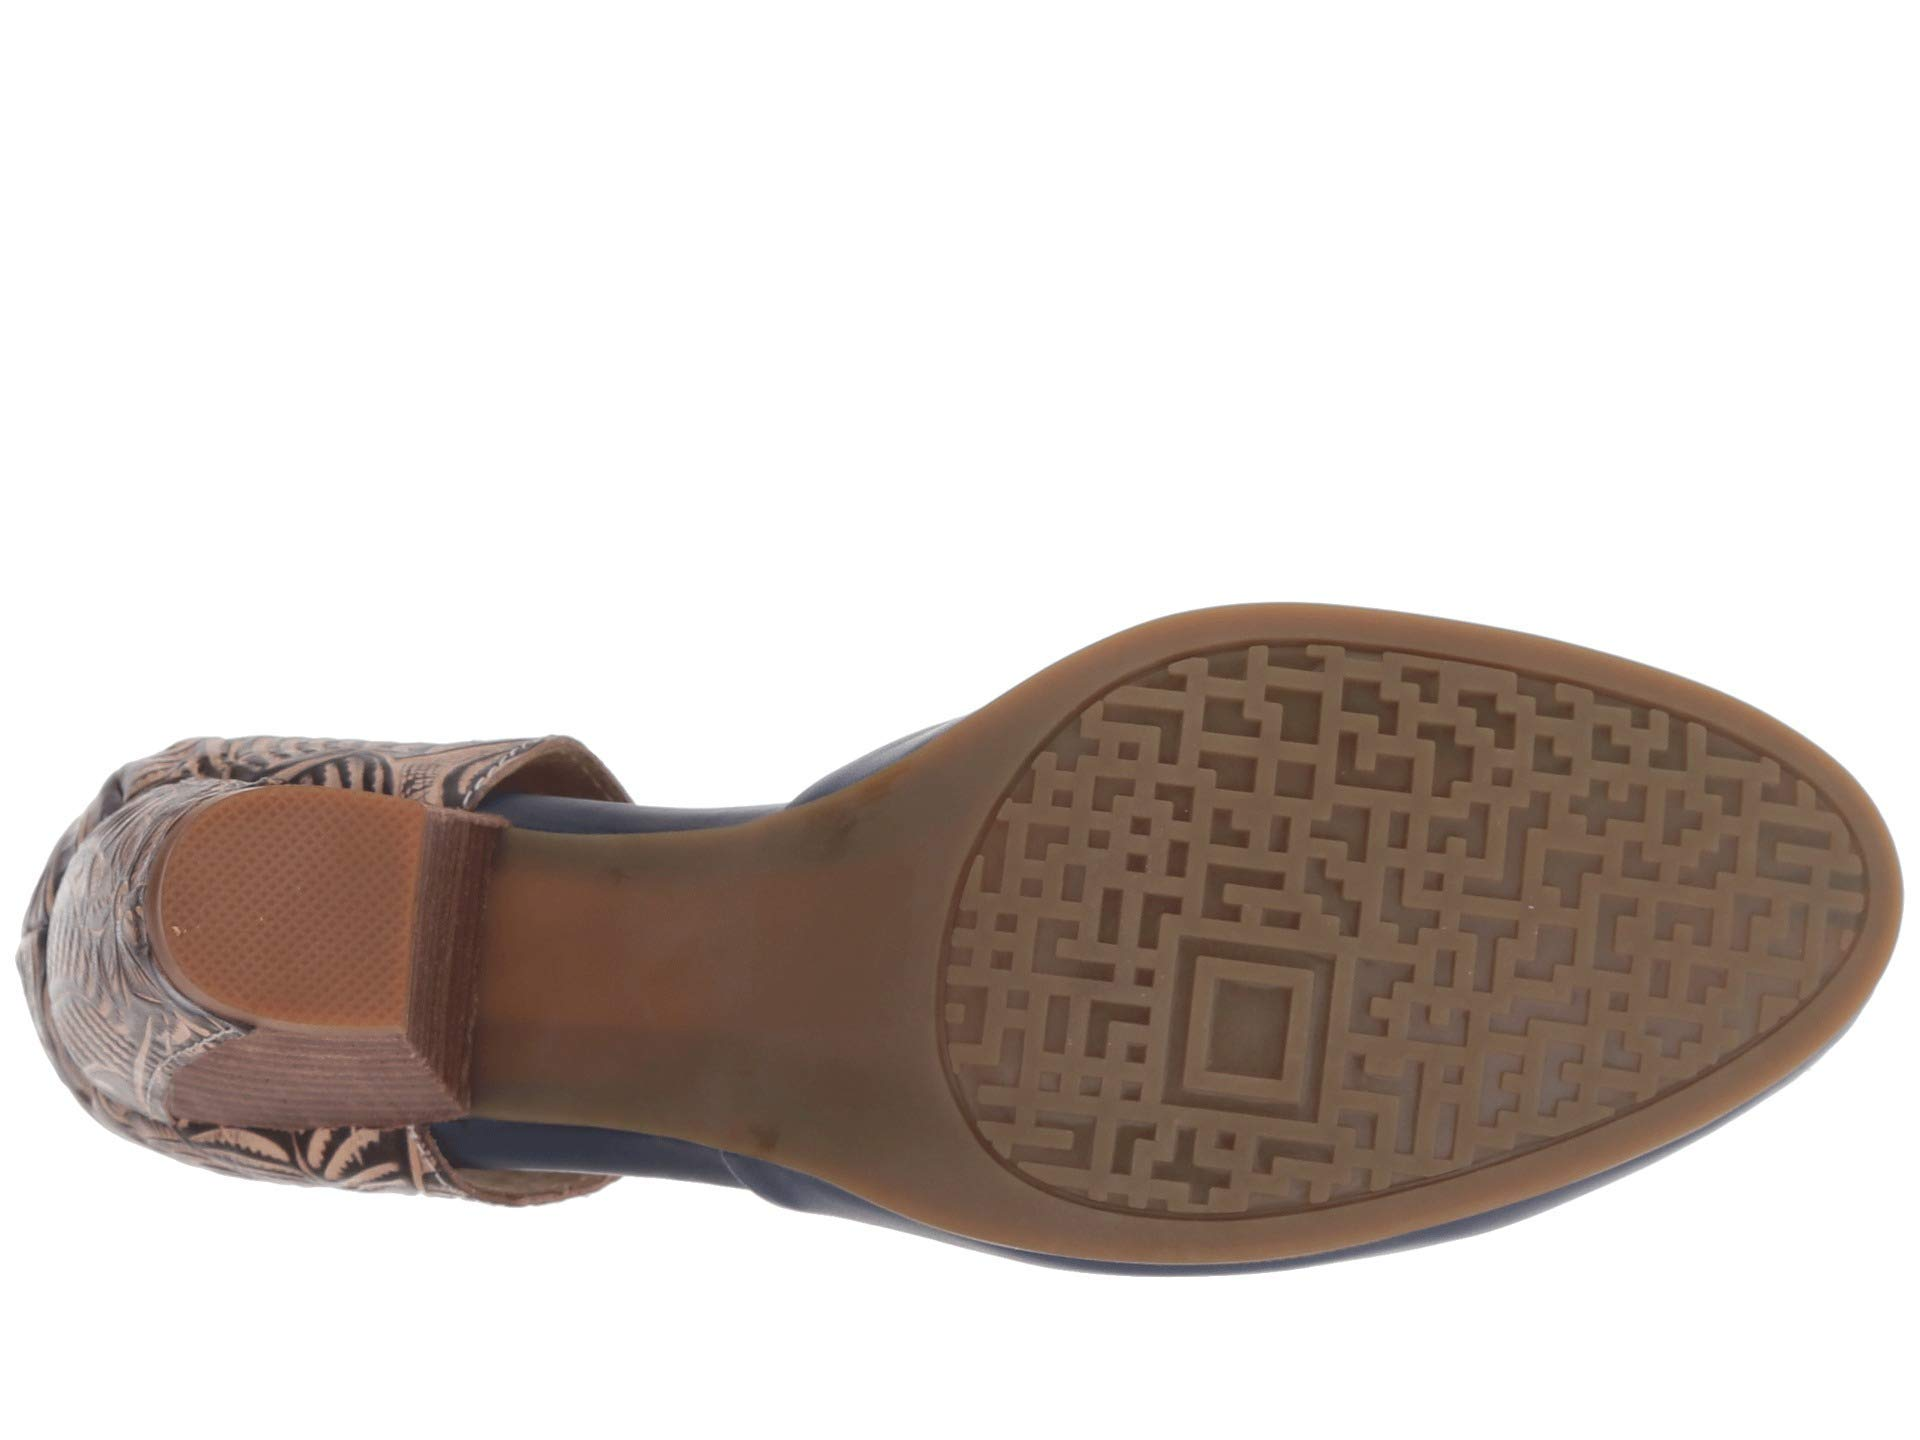exclude: (401, 706, 822, 1266)
quad: (1131, 883, 1411, 1181), (195, 821, 378, 992), (1560, 921, 1742, 1072), (1206, 728, 1370, 886)
